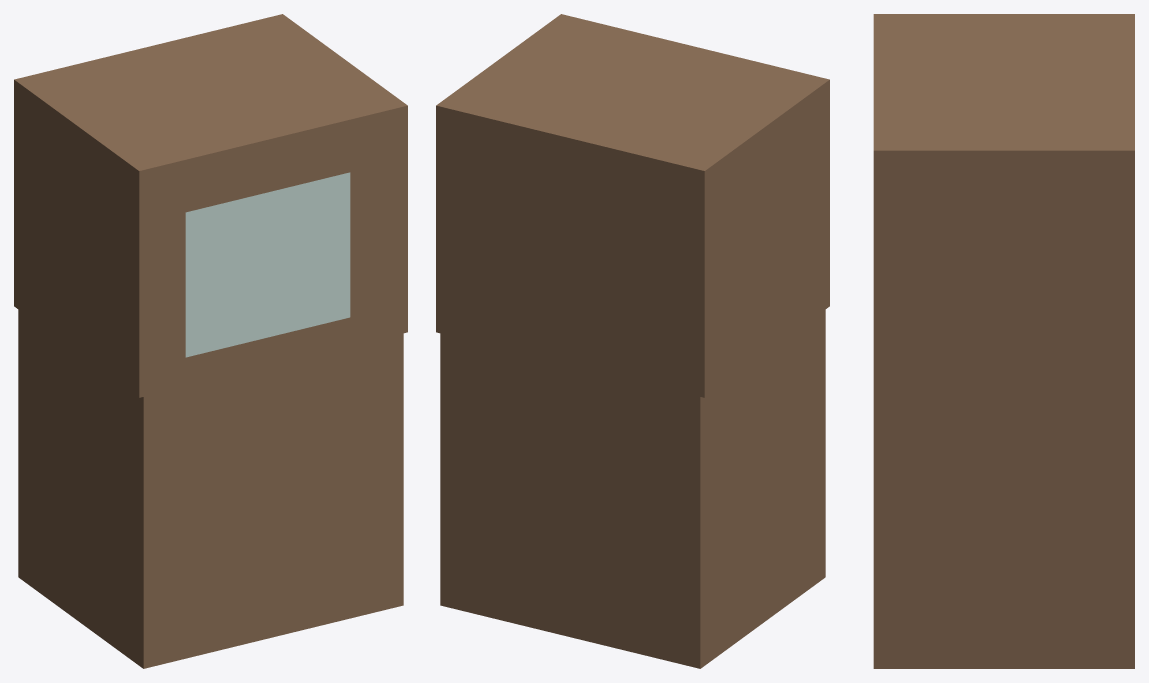
3 renders of one model, left to right at view 1: azimuth 30°, elevation 25°; view 2: azimuth 150°, elevation 25°; view 3: azimuth 270°, elevation 25°, orthographic. The views are drawn at different scales.
Parts seen in each view (by area): view 1: Malha_0; view 2: Malha_0; view 3: Malha_0.
Part boxes in pixels (x1=…): Malha_0: x1=14, y1=14, x2=407, y2=668; Malha_0: x1=436, y1=14, x2=829, y2=668; Malha_0: x1=873, y1=14, x2=1134, y2=668.
Bounding box in the file's own units: 0.62 × 1.1 × 0.53.
